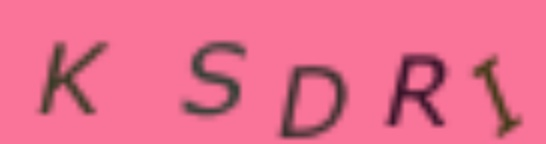D: (275, 62, 352, 143)
I: (474, 51, 527, 138)
K: (35, 33, 112, 118)
R: (385, 49, 451, 130)
S: (180, 35, 249, 119)
